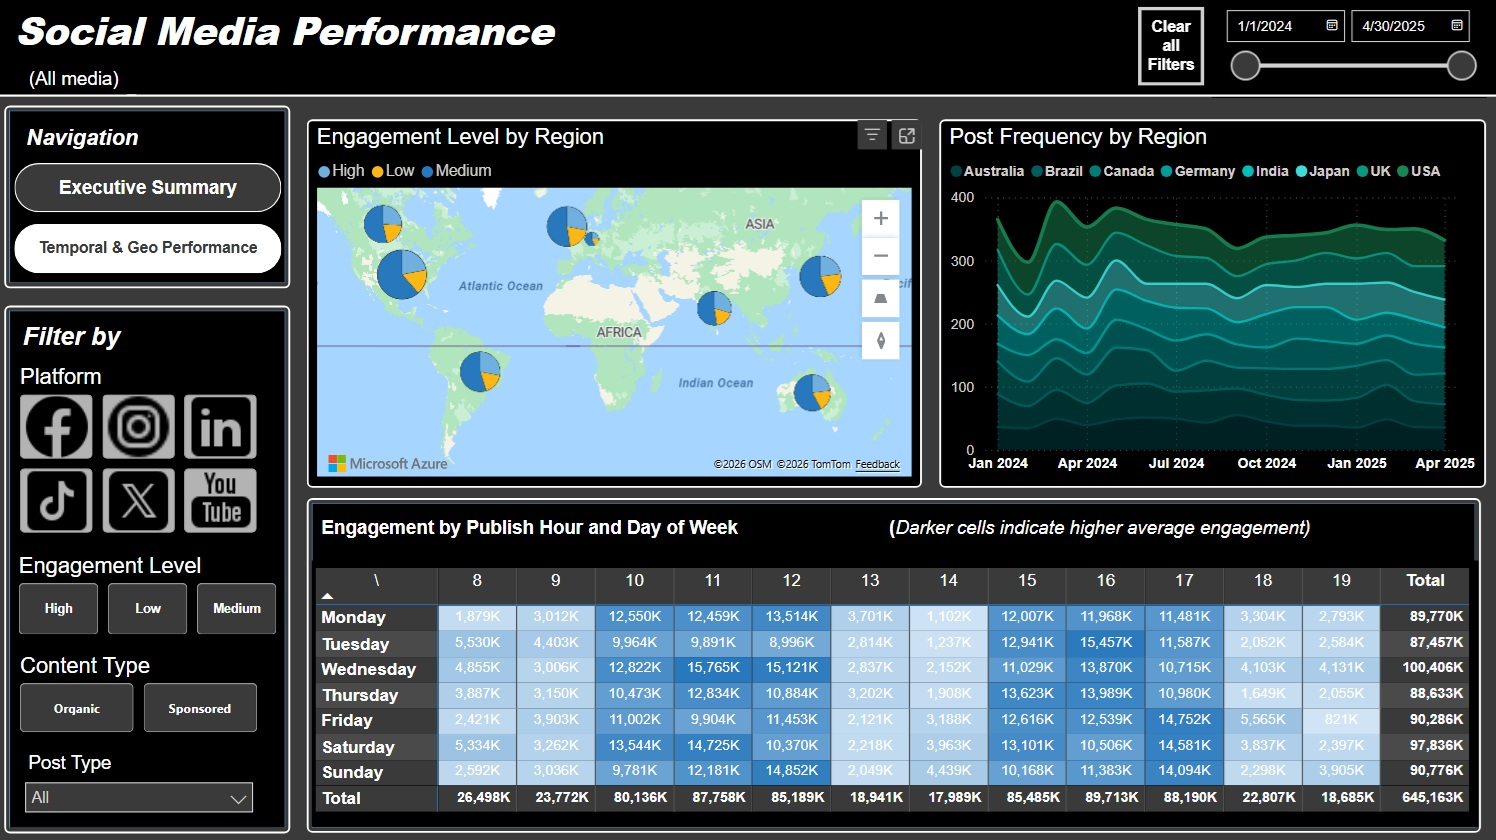

What the dashboard file says about the page in this screenshot:
{"tool":"powerbi","page":{"name":"Temporal & Geo Performance","canvas":[1280,720],"ordinal":1},"visuals":[{"type":"shape","box":[263.8,427,1001.2,285.9],"z":0},{"type":"shape","box":[4.9,92,244.2,155.8],"z":1000},{"type":"shape","box":[0,0,1279.8,84.7],"z":2000},{"type":"shape","box":[4.9,262.6,244.2,450.3],"z":3000},{"type":"azureMap","title":"Engagement Level by Region","fields":{"Category":["Dim_Location.Region"],"Y":["Avg(Dim_Location.Latitude)"],"X":["Avg(Dim_Location.Longitude)"],"Series":["Posts.Engagement_Level"],"Size":["Key Measures.Total Engagement"]},"box":[263.8,103.1,525.2,314.1],"z":4000},{"type":"stackedAreaChart","title":"Post Frequency by Region","fields":{"Series":["Dim_Location.Region"],"Y":["Key Measures.Total Posts"],"Category":["Dim_Date.Date.Variation.Date Hierarchy.Year","Dim_Date.Date.Variation.Date Hierarchy.Month","Dim_Date.Date.Variation.Date Hierarchy.Day"]},"box":[802.5,103.1,466.3,314.1],"z":5000},{"type":"pivotTable","title":"Average Engagement by Publish Hour and Day of Week","fields":{"Values":["Key Measures.Total Engagement"],"Columns":["Posts.Post_Hour"],"Rows":["Dim_Date.DayOfWeek_Name"]},"box":[267.5,479.8,995.1,227],"z":6000},{"type":"advancedSlicerVisual","title":"Engagement Level","fields":{"Values":["Posts.Engagement_Level"]},"box":[12.3,473.6,230.7,74.8],"z":7000},{"type":"advancedSlicerVisual","title":"Content Type","fields":{"Values":["Posts.Content_Type"]},"box":[13.5,558.3,213.5,73.6],"z":8000},{"type":"slicer","title":"Post Type","fields":{"Values":["Posts.Post_Type"]},"box":[12.3,639.3,214.7,65],"z":9000},{"type":"advancedSlicerVisual","title":"Platform","fields":{"Values":["Dim_Platform.Platform_Icon_URL"]},"box":[13.5,312.9,213.5,149.7],"z":10000},{"type":"pageNavigator","box":[13.5,141.1,228.2,94.5],"z":11000},{"type":"textbox","box":[16,272.4,109.2,35.6],"z":12000},{"type":"textbox","box":[9.8,0,758.3,66.3],"z":13000},{"type":"slicer","fields":{"Values":["Dim_Date.Date"]},"box":[1035.6,0,234.4,84.7],"z":14000},{"type":"textbox","box":[19.6,103.1,150.9,35.6],"z":15000},{"type":"textbox","box":[271.2,438,879.8,30.7],"z":16000},{"type":"textbox","box":[20.9,60.1,101.8,28.2],"z":17000},{"type":"shape","box":[0,74.8,1279.8,17.2],"z":18000},{"type":"actionButton","title":"Clear All Filters","box":[973,7.4,56.4,67.5],"z":19000}]}

Visuals, with their boxes in screenshot pixels (x1, y1, x2, y2), scaled from the page's 1280x720 canvas onto the 1496x840 screenshot:
shape: {"left": 308, "top": 498, "right": 1478, "bottom": 832}
shape: {"left": 6, "top": 107, "right": 291, "bottom": 289}
shape: {"left": 0, "top": 0, "right": 1495, "bottom": 99}
shape: {"left": 6, "top": 306, "right": 291, "bottom": 832}
"Engagement Level by Region" azureMap: {"left": 308, "top": 120, "right": 922, "bottom": 487}
"Post Frequency by Region" stackedAreaChart: {"left": 938, "top": 120, "right": 1483, "bottom": 487}
"Average Engagement by Publish Hour and Day of Week" pivotTable: {"left": 313, "top": 560, "right": 1476, "bottom": 825}
"Engagement Level" advancedSlicerVisual: {"left": 14, "top": 553, "right": 284, "bottom": 640}
"Content Type" advancedSlicerVisual: {"left": 16, "top": 651, "right": 265, "bottom": 737}
"Post Type" slicer: {"left": 14, "top": 746, "right": 265, "bottom": 822}
"Platform" advancedSlicerVisual: {"left": 16, "top": 365, "right": 265, "bottom": 540}
pageNavigator: {"left": 16, "top": 165, "right": 282, "bottom": 275}
textbox: {"left": 19, "top": 318, "right": 146, "bottom": 359}
textbox: {"left": 11, "top": 0, "right": 898, "bottom": 77}
slicer - Dim_Date.Date: {"left": 1210, "top": 0, "right": 1484, "bottom": 99}
textbox: {"left": 23, "top": 120, "right": 199, "bottom": 162}
textbox: {"left": 317, "top": 511, "right": 1345, "bottom": 547}
textbox: {"left": 24, "top": 70, "right": 143, "bottom": 103}
shape: {"left": 0, "top": 87, "right": 1495, "bottom": 107}
"Clear All Filters" actionButton: {"left": 1137, "top": 9, "right": 1203, "bottom": 87}
